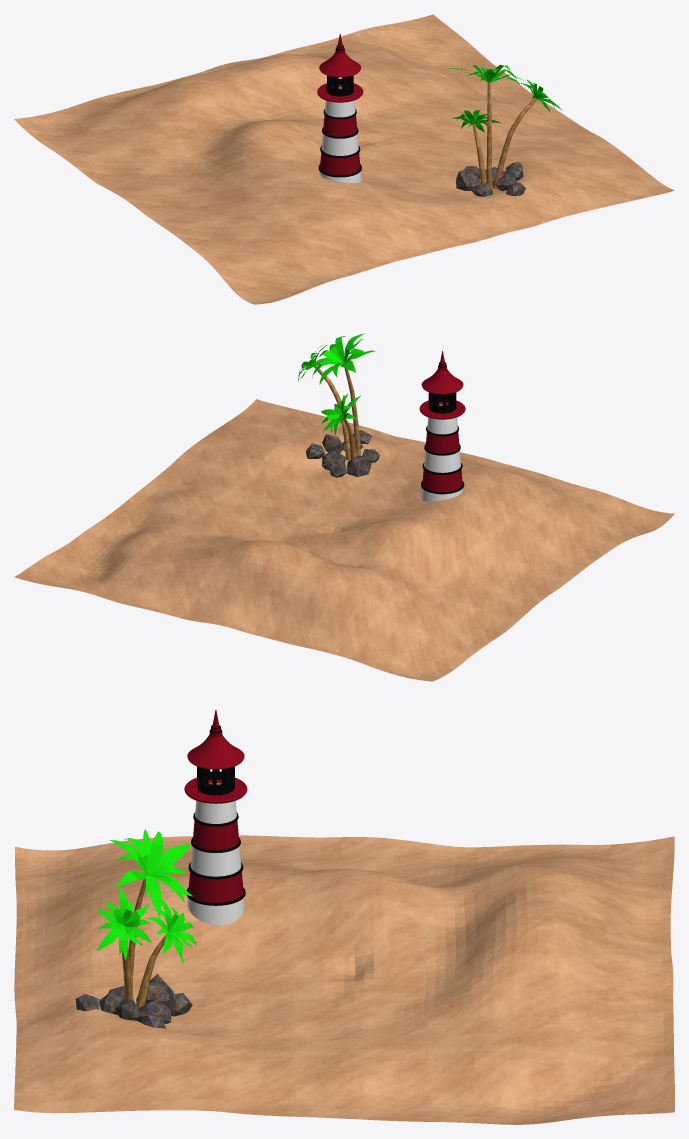
File: island.glb
3 views of the same model, one above another, from view 1: azimuth 30°, elevation 25°; view 2: azimuth 150°, elevation 25°; view 3: azimuth 270°, elevation 25° (orthographic). The views are drawn at different scales.
Parts seen in each view (by area): view 1: Sand, Light house, Icosphere, NurbsPath, Leaves.001; view 2: Sand, Light house, Icosphere, Leaves.001, NurbsPath, Leaves.002; view 3: Sand, Light house, Icosphere, Leaves.001, Leaves, NurbsPath, Leaves.002.
Part boxes in pixels (box(x1,y1,x2,y2)): Sand: box(14, 14, 674, 304); Light house: box(317, 34, 363, 182); Icosphere: box(456, 161, 525, 196); NurbsPath: box(472, 82, 536, 190); Leaves.001: box(447, 64, 523, 84); Sand: box(14, 399, 674, 681); Light house: box(419, 351, 465, 501); Icosphere: box(306, 430, 379, 477); Leaves.001: box(304, 333, 375, 384); NurbsPath: box(314, 362, 360, 460); Leaves.002: box(321, 393, 361, 435); Sand: box(14, 835, 674, 1124); Light house: box(184, 710, 247, 925); Icosphere: box(75, 974, 192, 1028); Leaves.001: box(109, 829, 192, 918); Leaves: box(95, 886, 151, 960); NurbsPath: box(122, 879, 165, 1008); Leaves.002: box(147, 899, 197, 963).
Size of the model in its own units: 40.43 by 16.68 by 40.1.
Materials: 5 (4 with a texture image).
